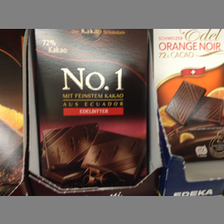chocolate: (30, 29, 151, 189), (152, 29, 224, 164)
